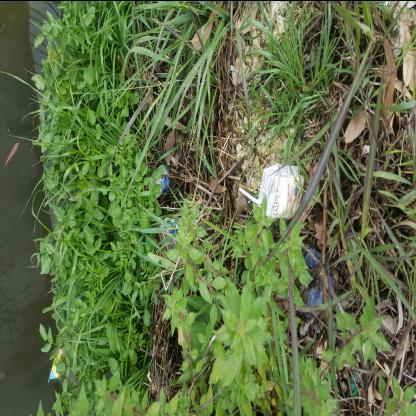karton: (198, 240, 253, 306)
plastik: (220, 150, 254, 172)
